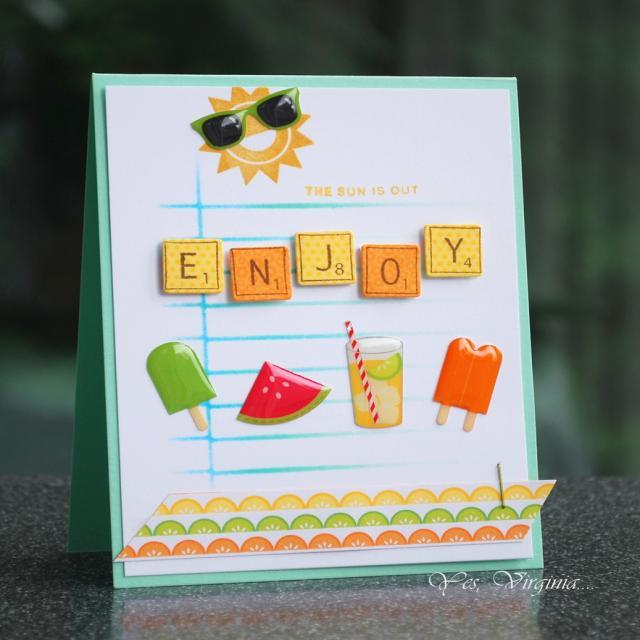Watermelon: (236, 362, 334, 426)
